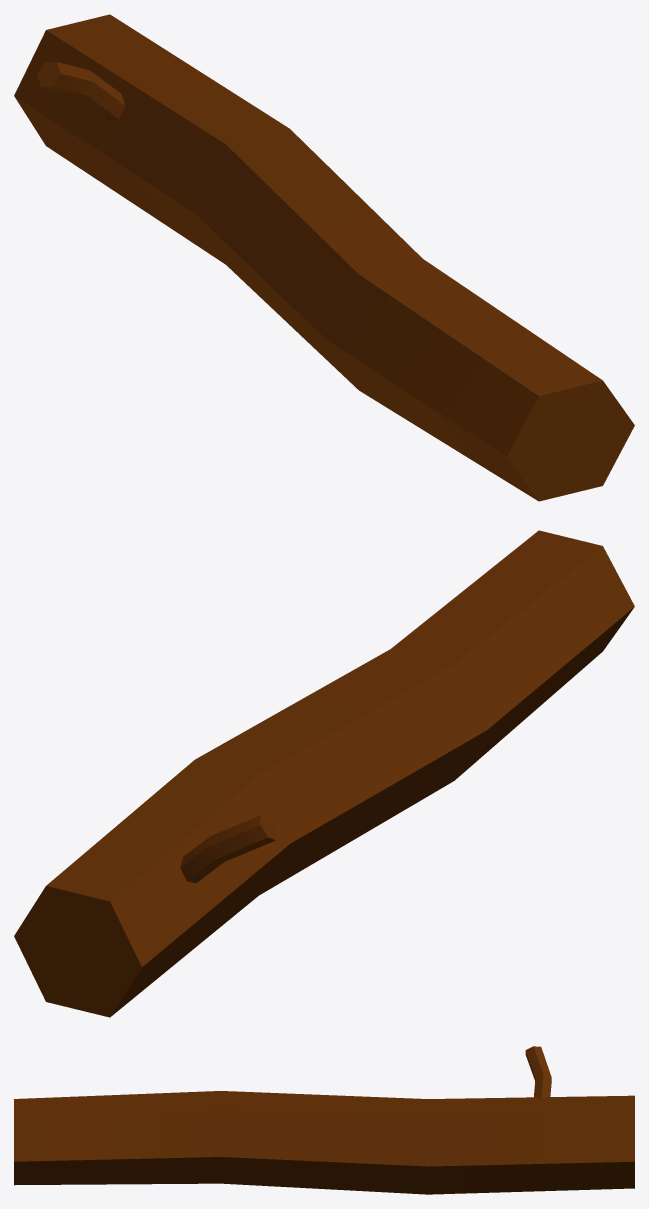
The model's file is trunk.fbx.
3 renders of one model, top to bottom at view 1: azimuth 30°, elevation 25°; view 2: azimuth 150°, elevation 25°; view 3: azimuth 270°, elevation 25°, orthographic. The views are drawn at different scales.
Visible parts, largest first — view 1: pCylinder37, pCylinder38; view 2: pCylinder37, pCylinder38; view 3: pCylinder37, pCylinder38.
Boxes of the visible parts, x1,y1,x2,y2 form: pCylinder37: (14, 14, 634, 501); pCylinder38: (37, 62, 125, 120); pCylinder37: (14, 530, 634, 1017); pCylinder38: (180, 815, 276, 883); pCylinder37: (14, 1091, 634, 1194); pCylinder38: (525, 1046, 551, 1097).
Bounding box in the file's own units: 0.4613 × 0.3637 × 2.
